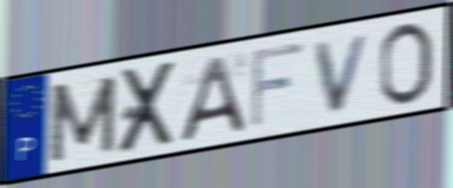A: (175, 52, 249, 146)
F: (248, 38, 307, 133)
M: (46, 72, 120, 166)
O: (377, 19, 436, 110)
V: (312, 29, 375, 117)
X: (115, 57, 181, 159)
